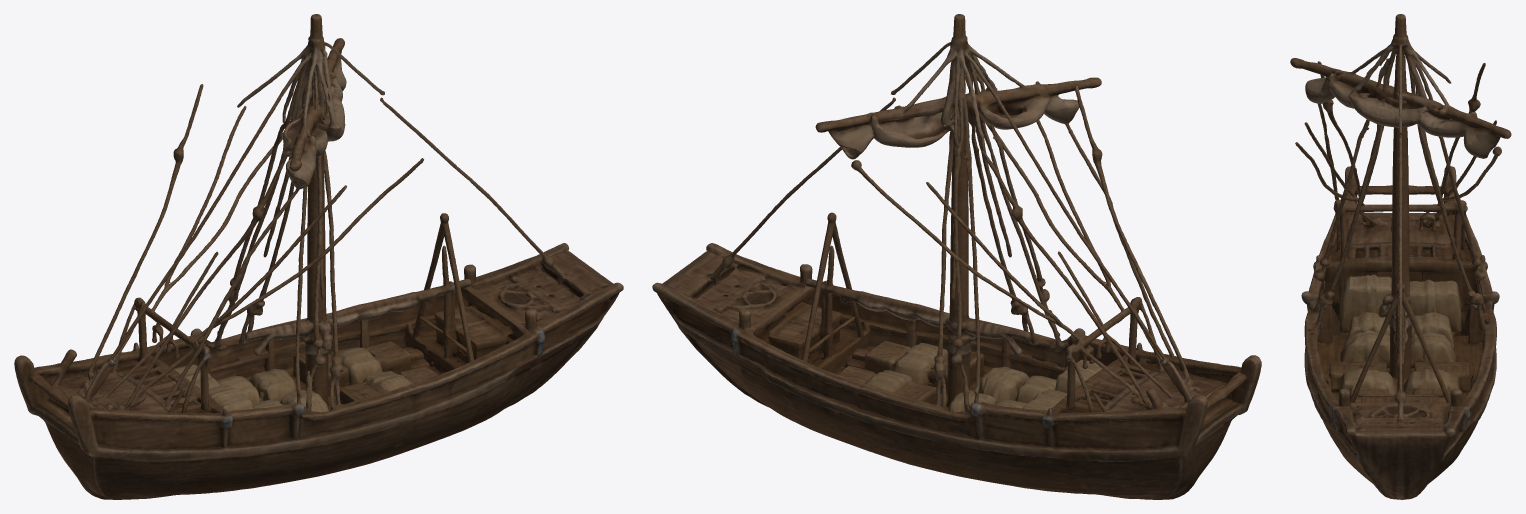
Rendered from cargo-boat.glb.
The picture shows the model from 3 angles, left to right: view 1: azimuth 30°, elevation 25°; view 2: azimuth 150°, elevation 25°; view 3: azimuth 270°, elevation 25°; orthographic projection. The views are drawn at different scales.
Parts seen in each view (by area): view 1: world; view 2: world; view 3: world.
Part boxes in pixels (x1,y1,x2,y2): world: (14,14,623,499); world: (652,14,1261,499); world: (1290,14,1511,499).
Size of the model in its own units: 1.2 by 0.9227 by 0.4522.
Materials: 1 (1 with a texture image).
